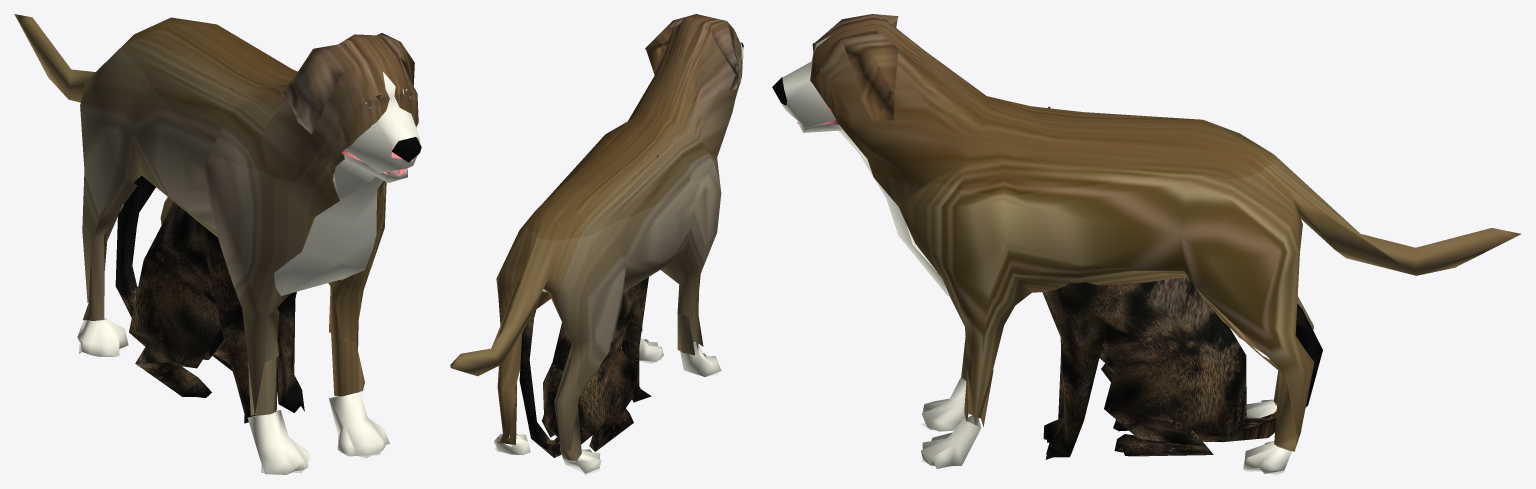
File: friends.fbx
The picture shows the model from 3 angles, left to right: view 1: azimuth 30°, elevation 25°; view 2: azimuth 150°, elevation 25°; view 3: azimuth 270°, elevation 25°; orthographic projection. The views are drawn at different scales.
Parts seen in each view (by area): view 1: Collie, Coon Cat; view 2: Collie, Coon Cat; view 3: Collie, Coon Cat.
Boxes of the visible parts, x1,y1,x2,y2 form: Collie: (14, 14, 421, 474); Coon Cat: (115, 88, 304, 423); Collie: (450, 14, 743, 474); Coon Cat: (519, 155, 658, 457); Collie: (772, 14, 1520, 474); Coon Cat: (1042, 106, 1322, 459).
Bounding box in the file's own units: 40.64 × 110 × 176.
13 materials, 2 textured.
